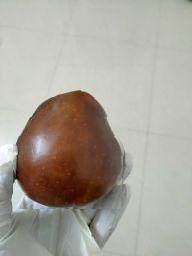Apple Rotten: (13, 87, 127, 209)
